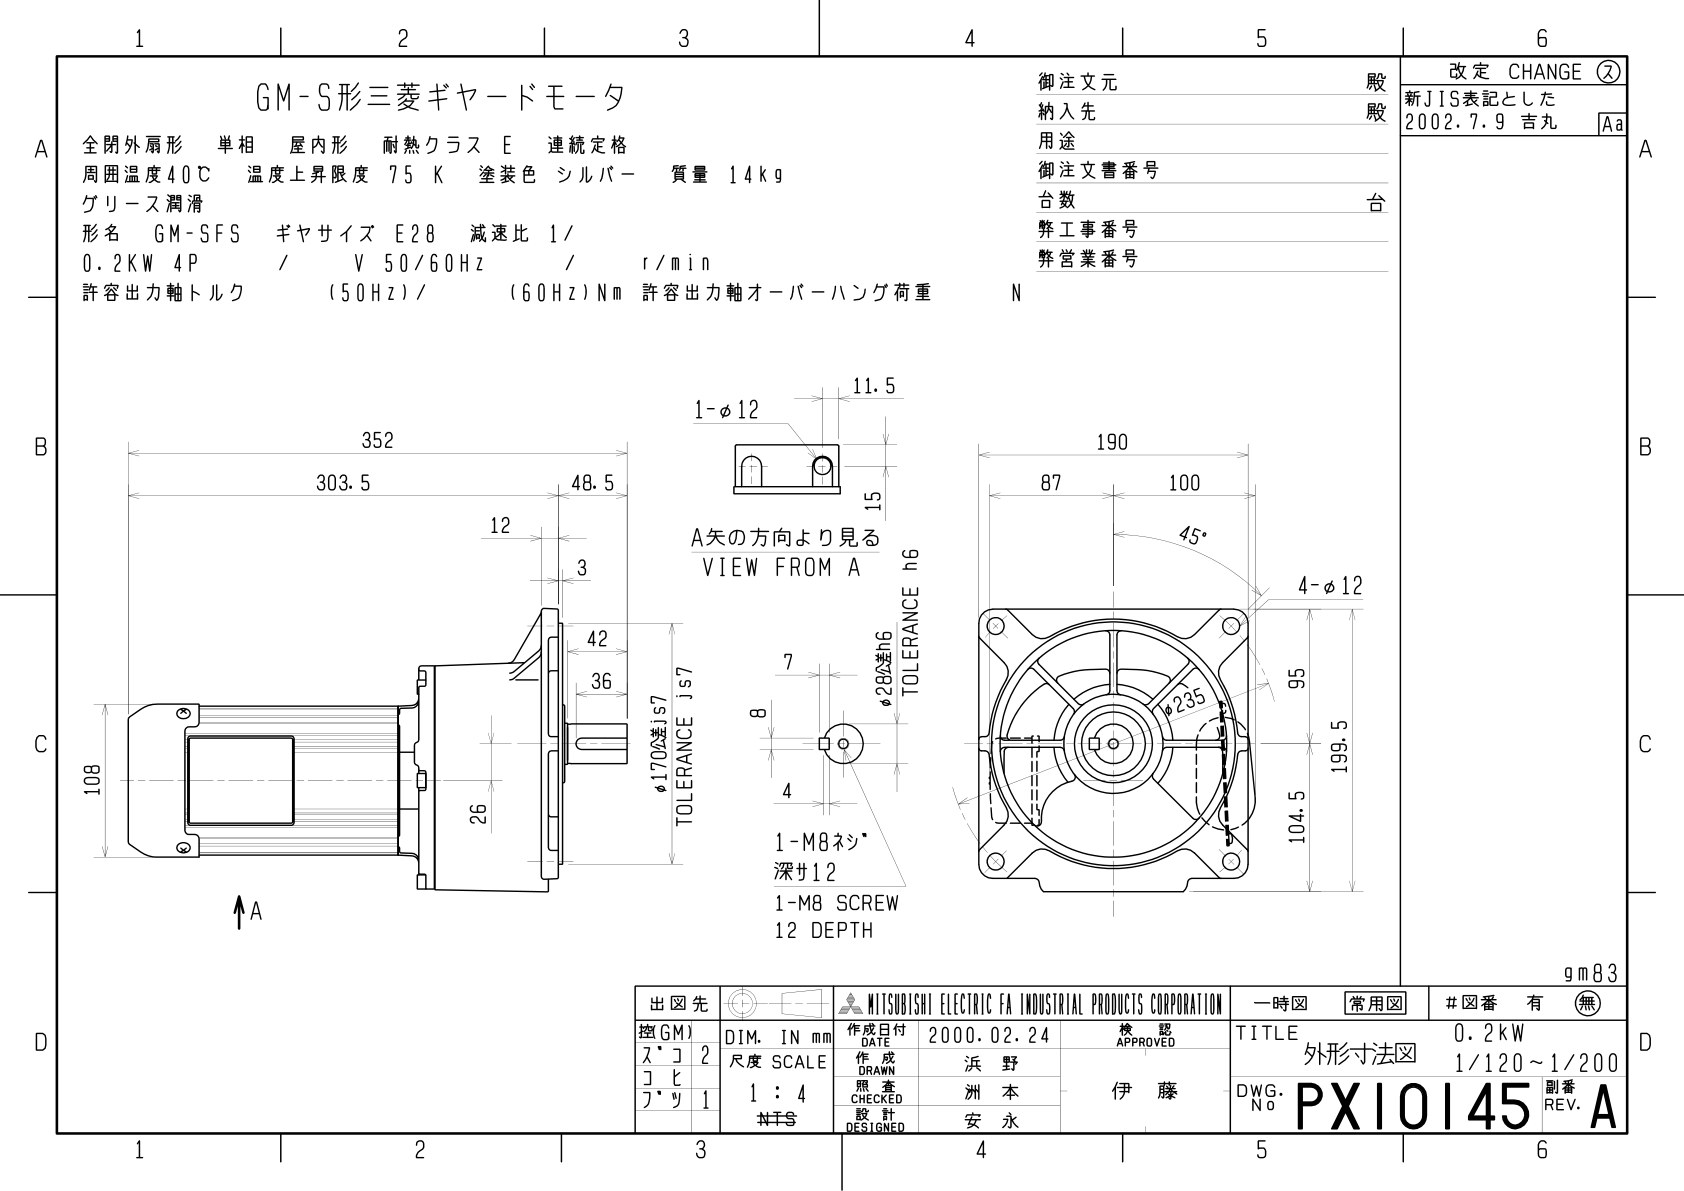GM_S_屋内＿単相_フランジ: (6, 10, 1684, 1191)
